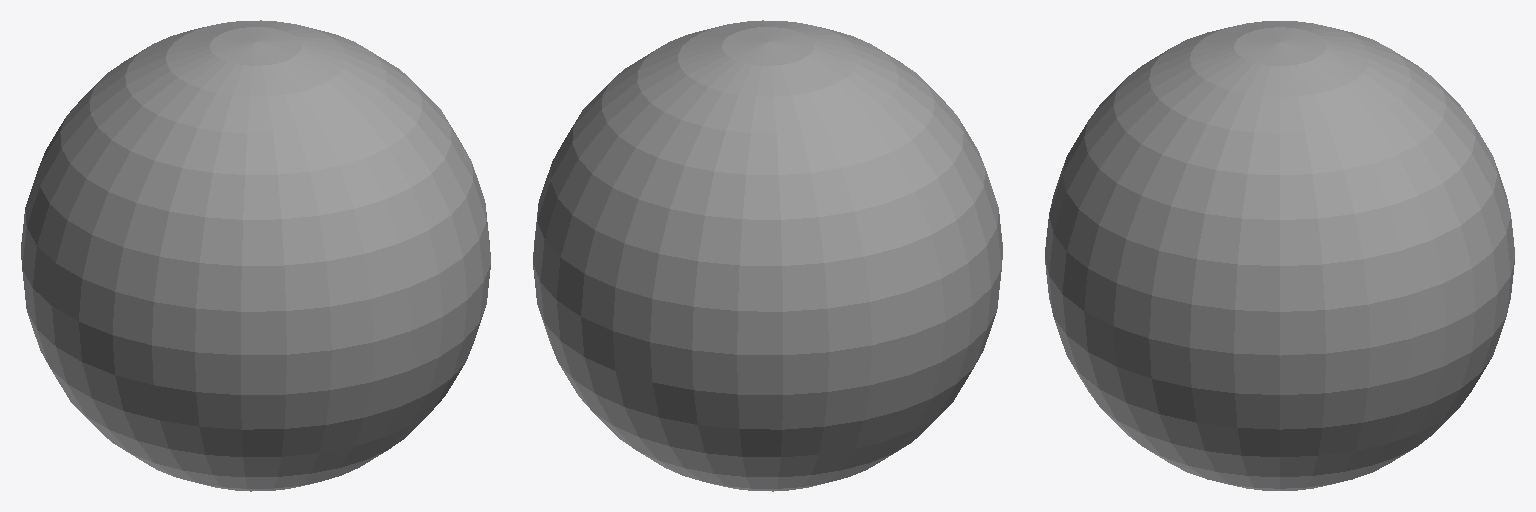
URDF robot description (ball):
<?xml version="1.0" ?>
<robot name="ball" xmlns:xacro="http://www.ros.org/wiki/xacro">
  <link name="ball">
    <inertial>
      <mass value=".25"/>
      <origin rpy="0 0 0" xyz="0 0 0"/>
      <inertia ixx="1e-4" ixy="0" ixz="0" iyy="1e-4" iyz="0" izz="1e-4"/>
    </inertial>
    <visual>
      <origin rpy="0 0 0" xyz="0 0 0"/>
      <geometry>
        <sphere radius=".0375"/>
          <!--<mesh filename="meshes/ball.obj"/>-->
      </geometry>
      <material name="Grey">
        <color rgba="0.65 0.65 0.65 1"/>
      </material>
    </visual>
    <collision>
      <origin rpy="0 0 0" xyz="0 0 0"/>
      <geometry>
        <sphere radius=".0375"/>
        <!--<mesh filename="meshes/ball.obj"/>-->
      </geometry>
    </collision>
  </link>
</robot>

--- Render facts (derived) ---
The picture shows the robot from 3 angles, left to right: view 1: azimuth 30°, elevation 25°; view 2: azimuth 150°, elevation 25°; view 3: azimuth 270°, elevation 25°; orthographic projection.
Model ball with 1 links and 0 joints (none), rooted at ball, posed all joints at 0.
Links seen in each view (by area): view 1: ball; view 2: ball; view 3: ball.
Boxes of the visible links, bbox=[...] form: ball: bbox=[21, 20, 490, 491]; ball: bbox=[533, 20, 1002, 491]; ball: bbox=[1045, 21, 1514, 490].
Bounding box of the posed robot: 0.075 × 0.075 × 0.075 m (x, y, z).
Geometry: primitives only (box / cylinder / sphere), no mesh files.
